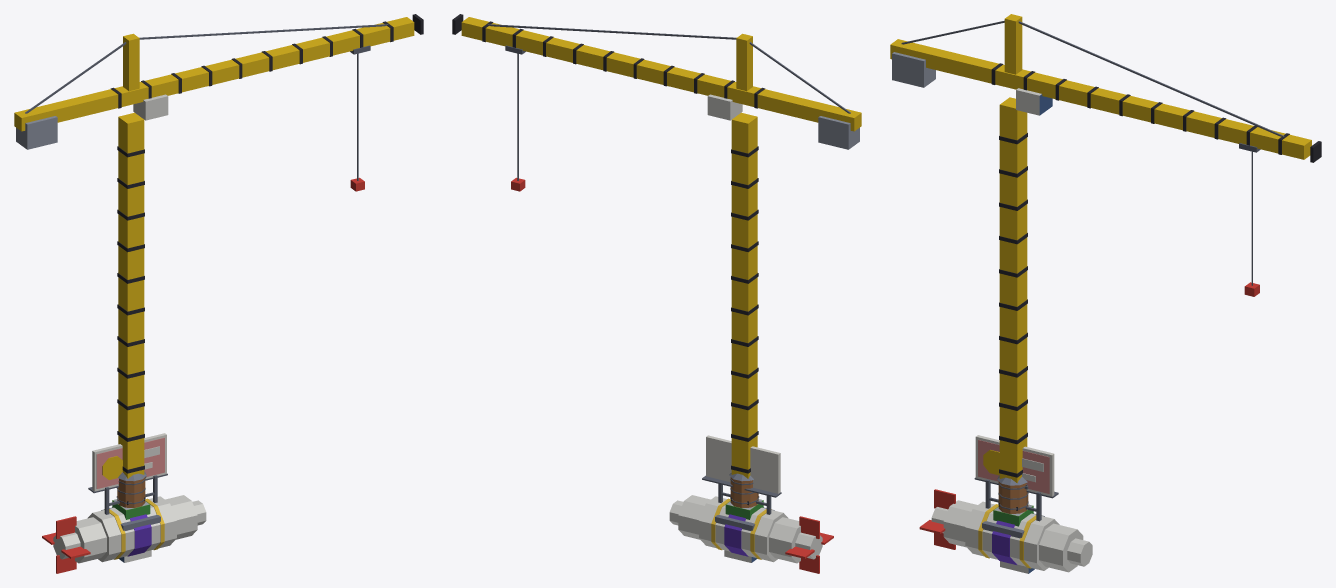
File: props.glb
3 views of the same model, side by side, from view 1: azimuth 30°, elevation 25°; view 2: azimuth 150°, elevation 25°; view 3: azimuth 330°, elevation 25° (orthographic). The views are drawn at different scales.
Parts seen in each view (by area): view 1: crane, blimp, billboard_a, water_tower; view 2: crane, blimp, billboard_a, water_tower; view 3: crane, blimp, billboard_a, water_tower.
Boxes of the visible parts, bbox=[...] form: crane: bbox=[14, 14, 423, 530]; blimp: bbox=[42, 495, 206, 573]; billboard_a: bbox=[88, 433, 167, 514]; water_tower: bbox=[113, 471, 149, 509]; crane: bbox=[452, 14, 861, 530]; blimp: bbox=[669, 495, 833, 573]; billboard_a: bbox=[702, 435, 781, 514]; water_tower: bbox=[726, 473, 762, 509]; crane: bbox=[890, 14, 1321, 538]; blimp: bbox=[919, 489, 1092, 573]; billboard_a: bbox=[974, 435, 1058, 521]; water_tower: bbox=[994, 475, 1032, 516].
Size of the model in its own units: 53.2 by 65.95 by 6.6.
